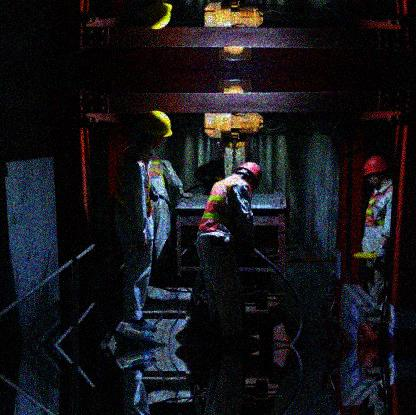helmet: (135, 109, 174, 152), (362, 154, 390, 190), (235, 160, 263, 190)
